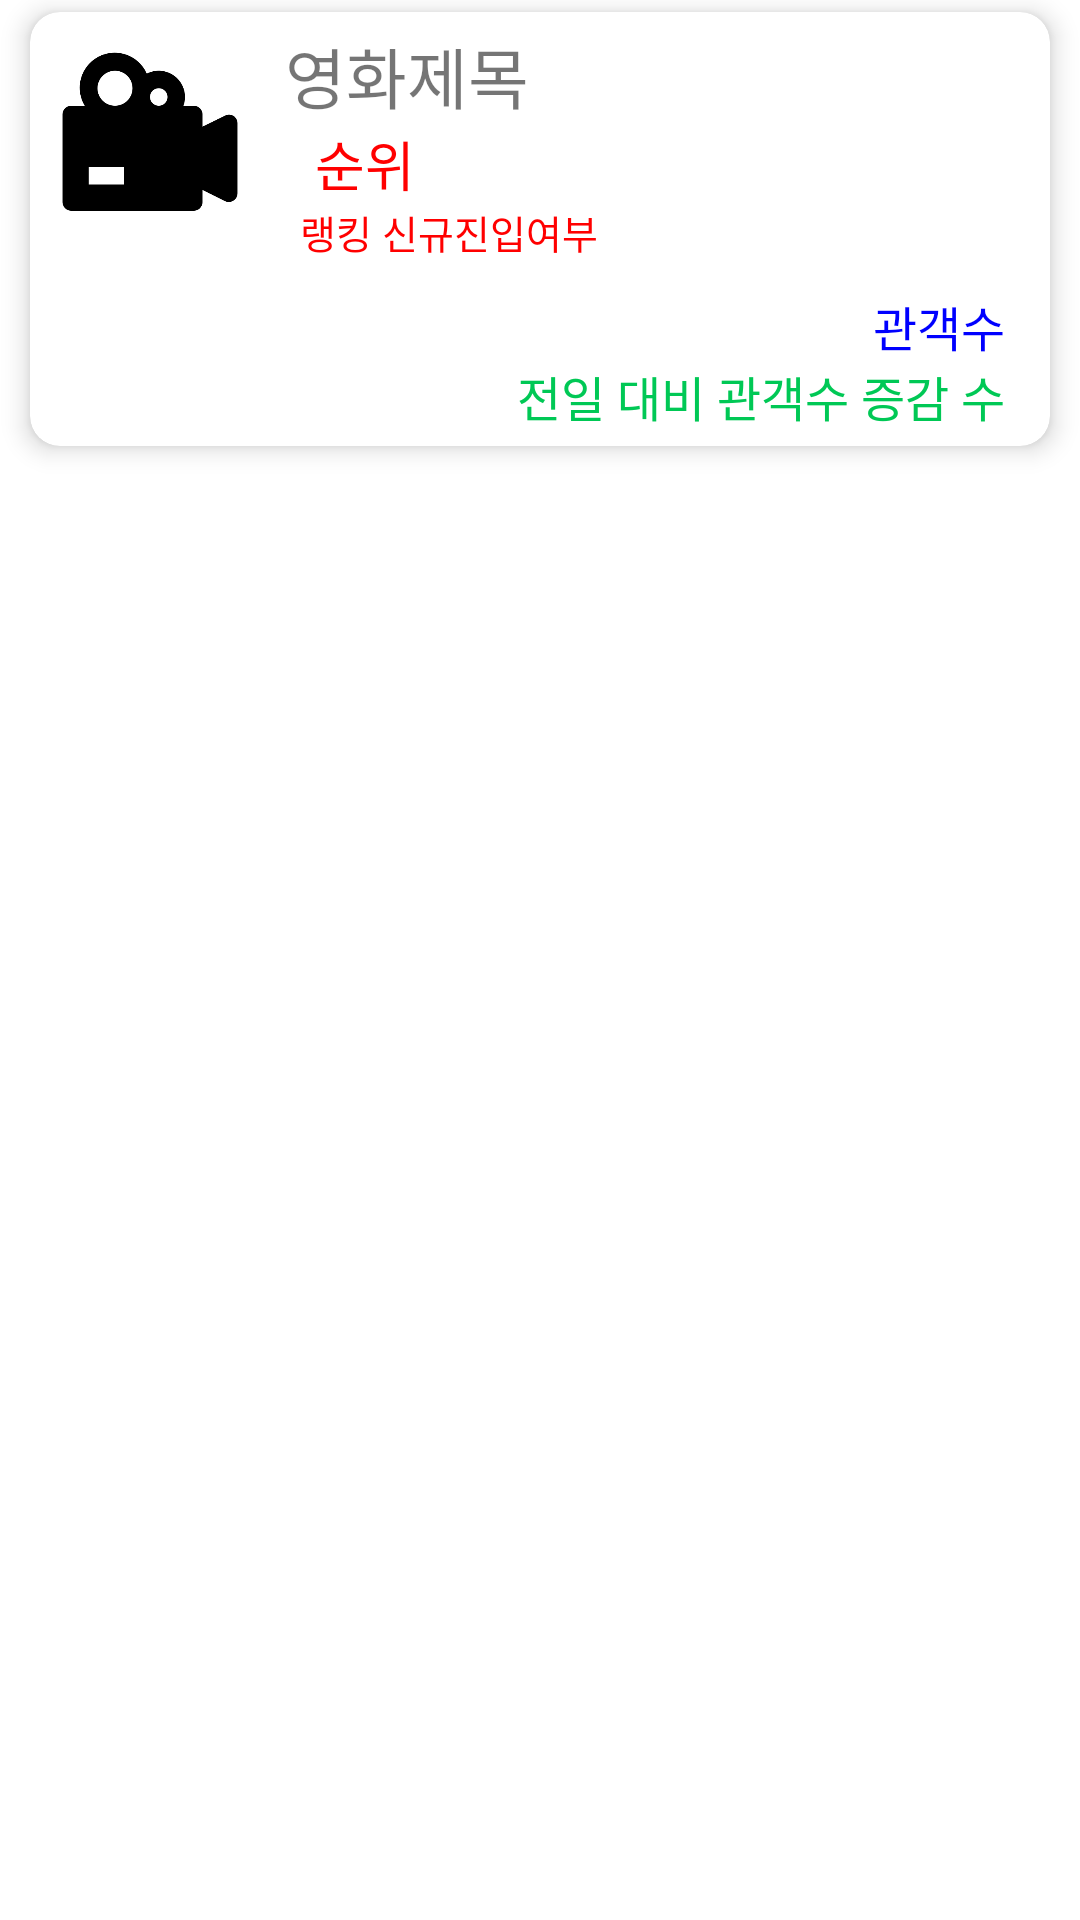

Icons on this 1080w x 1920h Android screen, each with the point to tap as [x,y]:
movie: [144,111]
